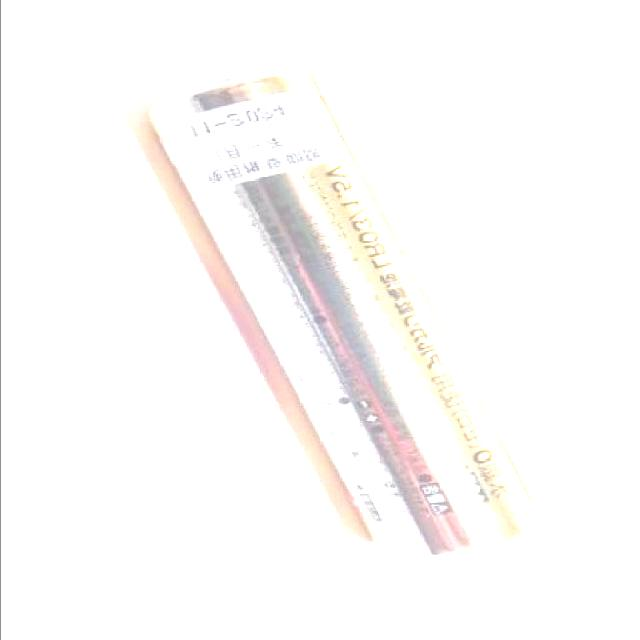AAA: (138, 60, 572, 563)
